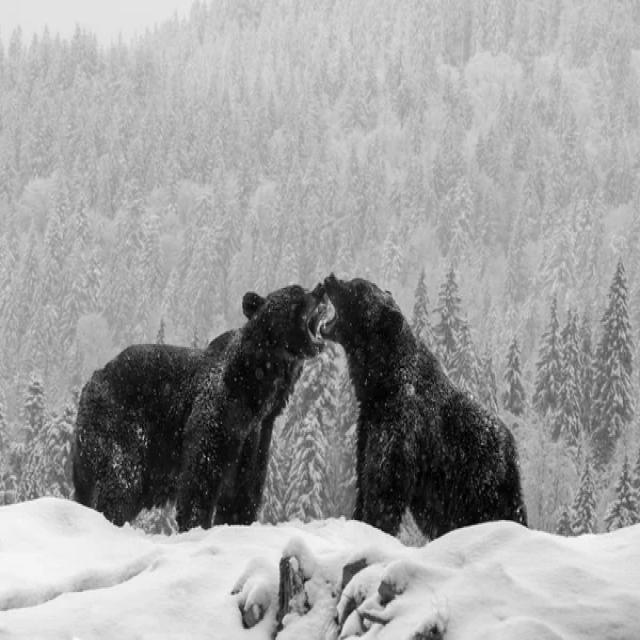Animal: (72, 285, 328, 532), (321, 278, 528, 540)
